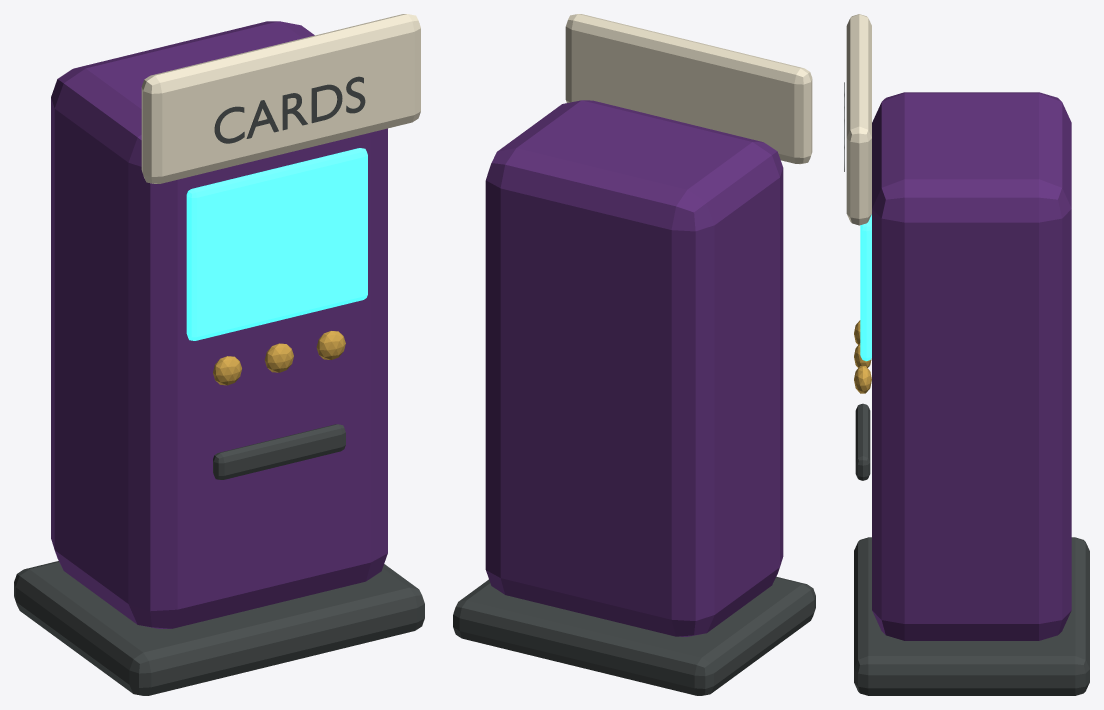
Rendered from card-machine.glb.
3 views of the same model, side by side, from view 1: azimuth 30°, elevation 25°; view 2: azimuth 150°, elevation 25°; view 3: azimuth 270°, elevation 25° (orthographic). The views are drawn at different scales.
Visible parts, largest first — view 1: machine_body, sign_board, machine_display, machine_plinth, machine_slot, sign_lettering, machine_button.001, machine_button, machine_button.002; view 2: machine_body, sign_board, machine_plinth; view 3: machine_body, machine_plinth, sign_board, machine_display, machine_slot, machine_button.002.
Part boxes in pixels (<box>): machine_body: <box>51,21,387,628</box>; sign_board: <box>141,14,420,183</box>; machine_display: <box>186,148,367,340</box>; machine_plinth: <box>14,561,424,695</box>; machine_slot: <box>213,424,345,479</box>; sign_lettering: <box>214,76,365,143</box>; machine_button.001: <box>264,343,293,372</box>; machine_button: <box>213,356,241,385</box>; machine_button.002: <box>316,331,345,359</box>; machine_body: <box>485,100,783,636</box>; sign_board: <box>565,14,812,164</box>; machine_plinth: <box>453,576,815,695</box>; machine_body: <box>872,92,1071,640</box>; machine_plinth: <box>854,537,1089,695</box>; sign_board: <box>846,14,871,225</box>; machine_display: <box>860,214,871,361</box>; machine_slot: <box>855,403,870,480</box>; machine_button.002: <box>854,366,871,393</box>.
Bounding box in the file's own units: 0.85 × 1.72 × 0.677.
